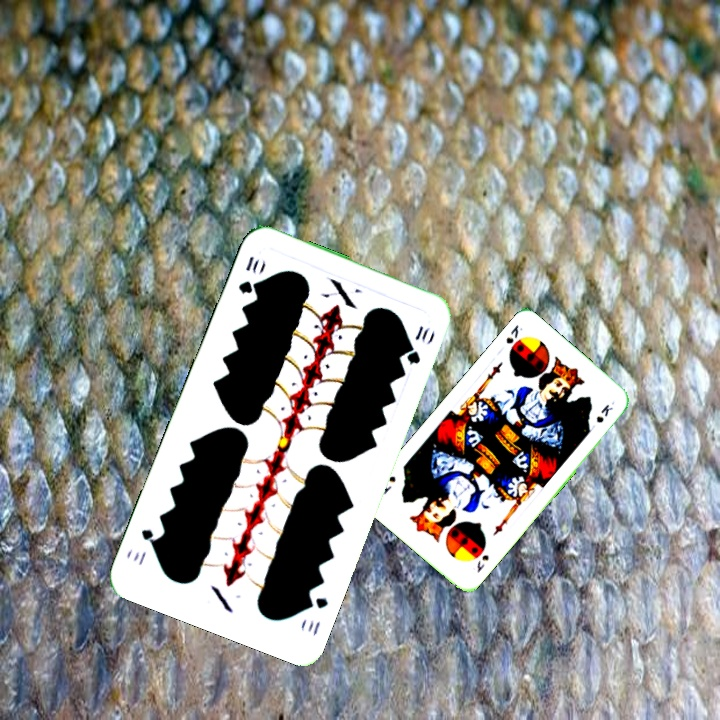G10: (302, 592, 331, 639), (234, 252, 261, 297)
SK: (502, 320, 525, 346), (472, 550, 492, 575)
